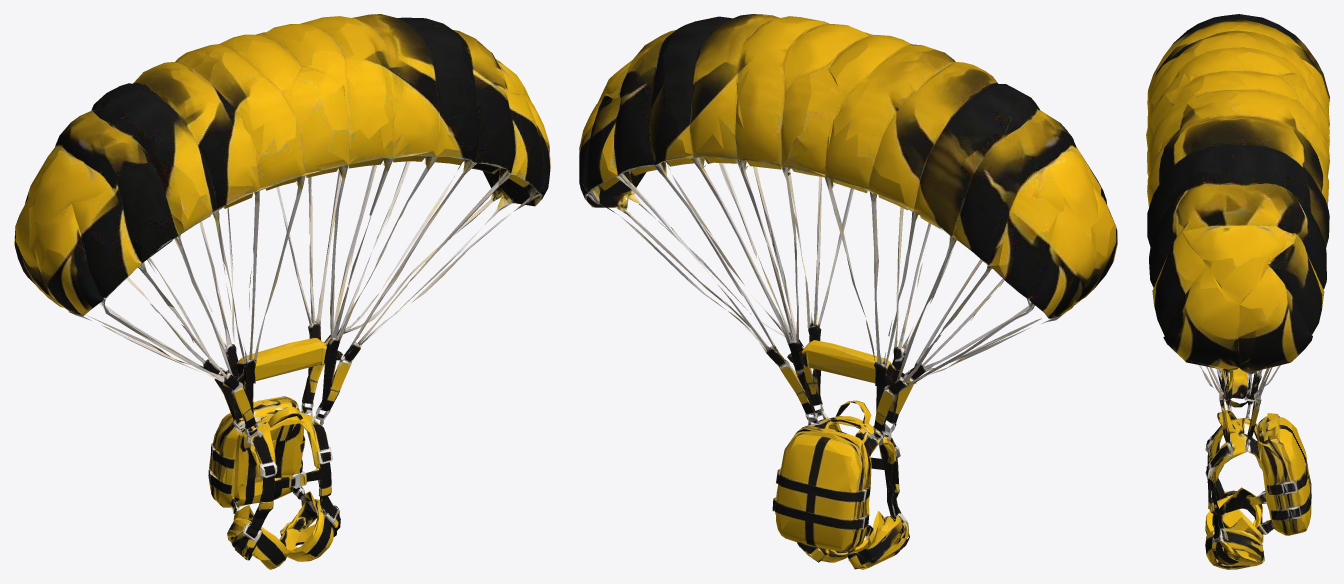
The model's file is Parachute.glb.
3 views of the same model, side by side, from view 1: azimuth 30°, elevation 25°; view 2: azimuth 150°, elevation 25°; view 3: azimuth 270°, elevation 25° (orthographic). The views are drawn at different scales.
Bounding box in the file's own units: 1.89 × 1.9 × 0.6351.
1 material, 1 textured.
